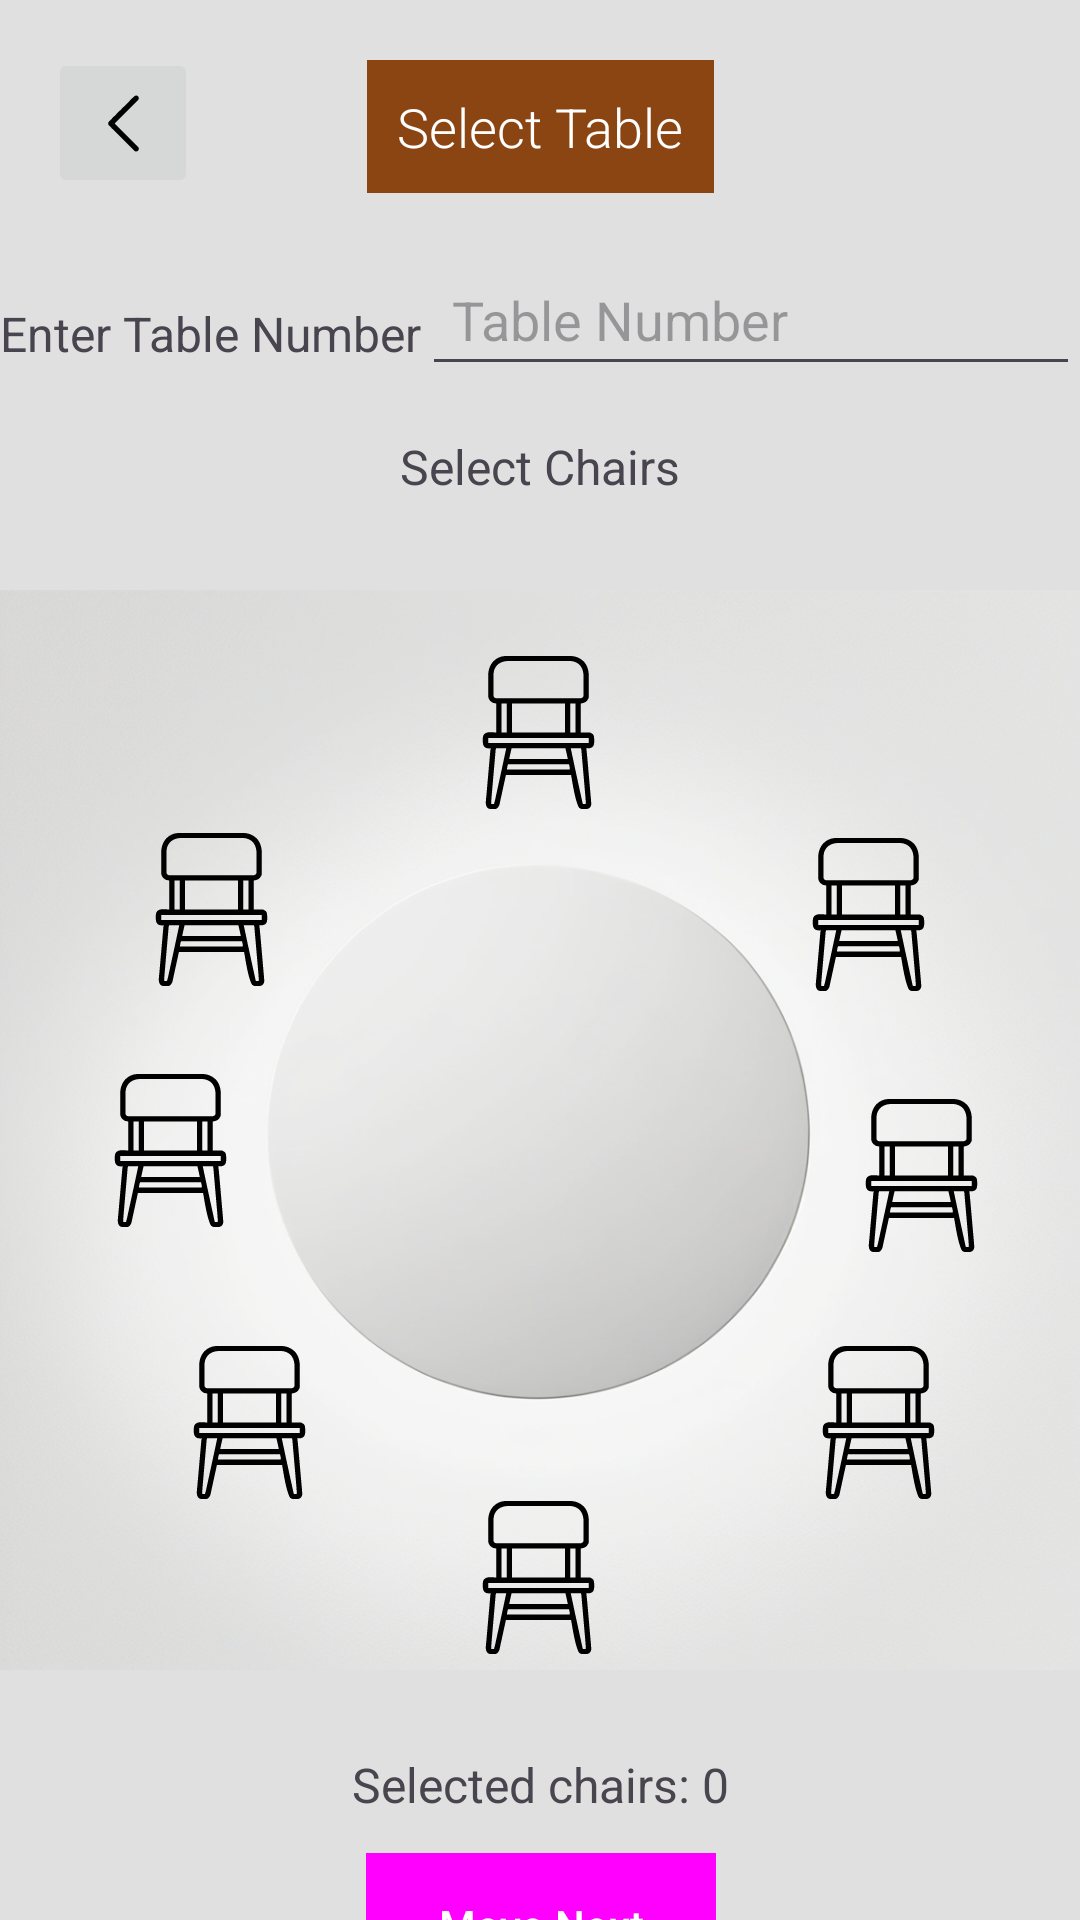

Where to tap for icons on this 1080px×1920px app screen, as (x=x, y=y):
left: (x=123, y=123)
